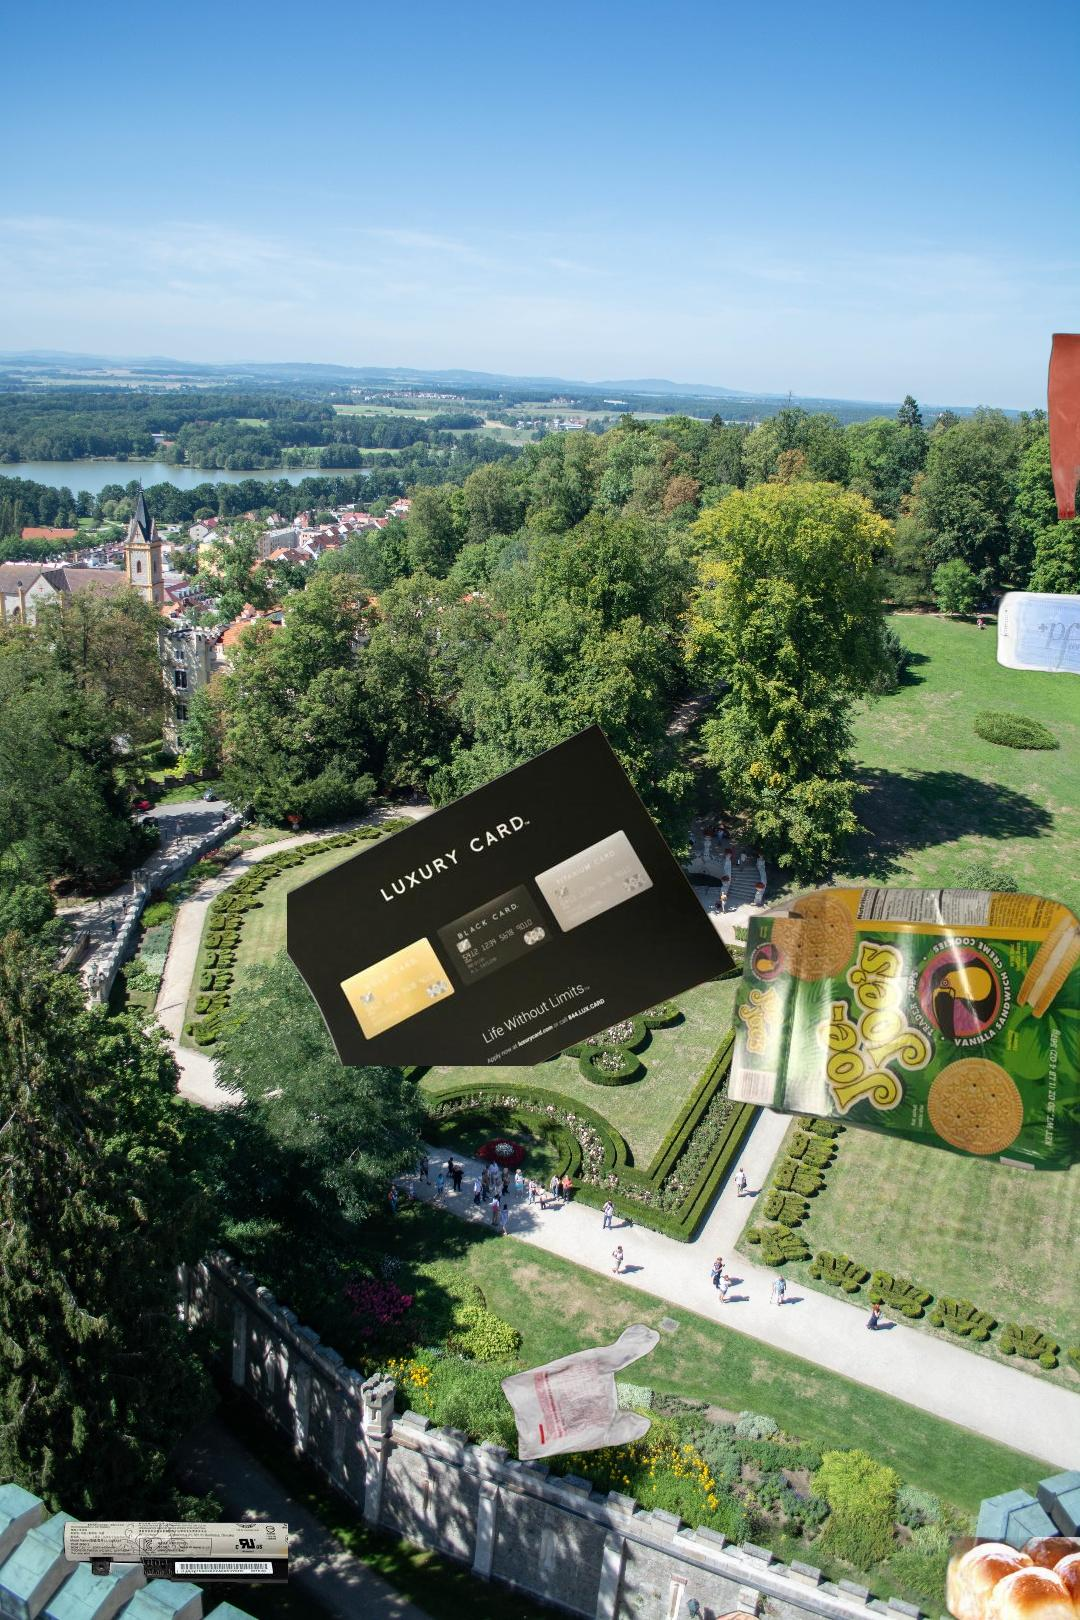battery: (61, 1518, 288, 1587)
biological: (941, 1537, 1080, 1620)
paper: (287, 720, 742, 1066), (722, 885, 1080, 1175)
paper-bag: (601, 1608, 829, 1620)
plastic-bag: (497, 1321, 663, 1463), (1044, 330, 1080, 530)
trash: (993, 588, 1080, 692)
